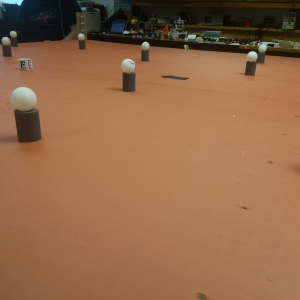blockE: (18, 57, 33, 72)
corner: (75, 11, 87, 39)
obstacle: (11, 87, 42, 144), (120, 58, 137, 92), (244, 50, 257, 77), (1, 36, 13, 58), (140, 40, 151, 63), (258, 42, 267, 64), (76, 32, 86, 50), (10, 30, 19, 46)
start: (161, 73, 189, 82)
